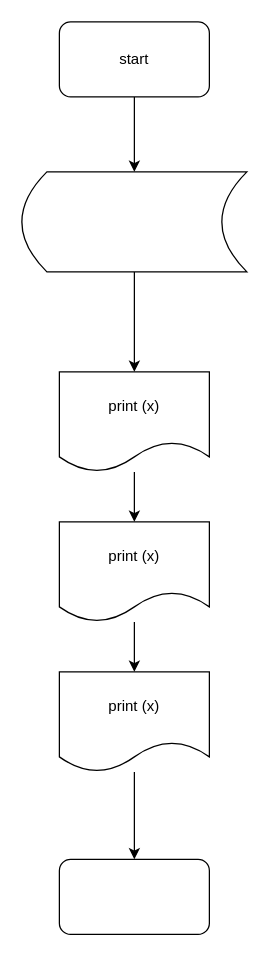
Some shapes in this 269 by 956 pixel diagram are drawn without their labels. Each missing label, with the centre of its shape:
"end" goes at point 133,896.
"x: int = write a random number" goes at point 134,221.
